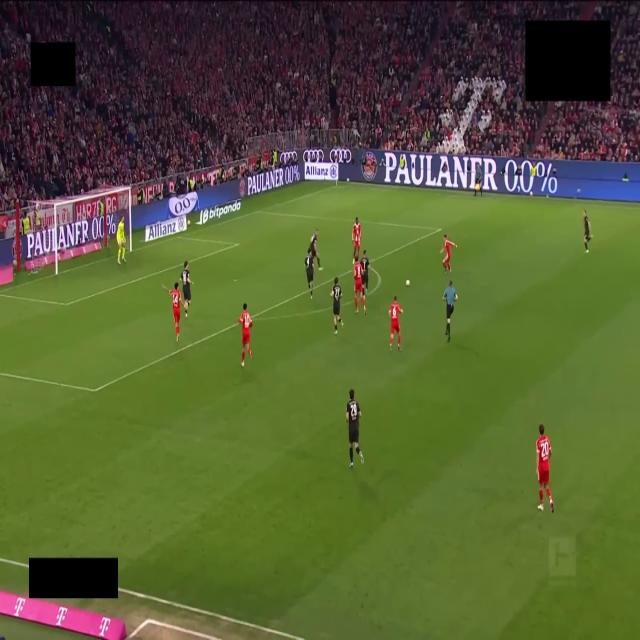ball: (406, 280, 410, 287)
player: (537, 424, 554, 512), (346, 390, 363, 468), (163, 283, 181, 342), (238, 304, 252, 367), (389, 296, 402, 351), (331, 278, 343, 335), (354, 262, 366, 314), (441, 234, 456, 272), (181, 262, 191, 317), (309, 230, 322, 270), (305, 248, 313, 298), (583, 210, 592, 253), (360, 250, 369, 293), (117, 216, 125, 263), (352, 217, 360, 263)
referee: (443, 280, 457, 341)
